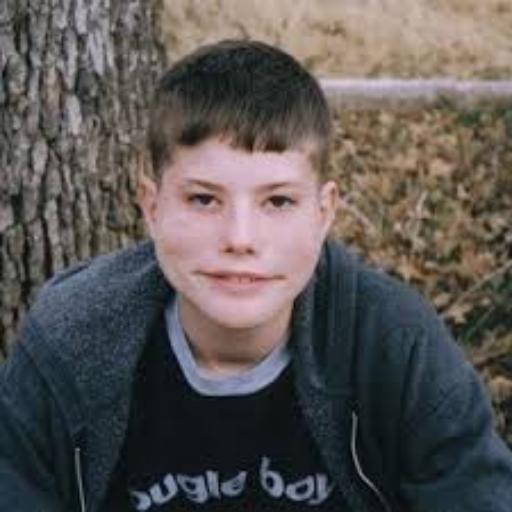left_eye: (260, 193, 302, 215)
left_lip_corner: (264, 272, 293, 290)
right_eye: (183, 191, 223, 213)
right_lip_corner: (194, 269, 225, 285)
